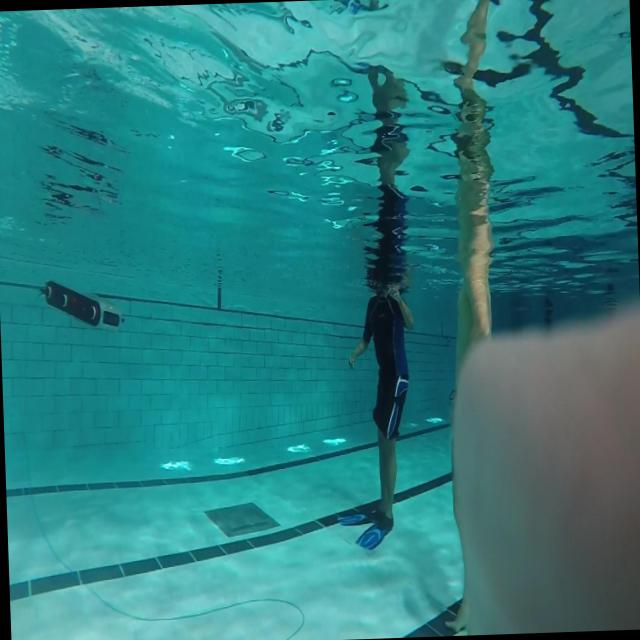human: (344, 268, 422, 551)
